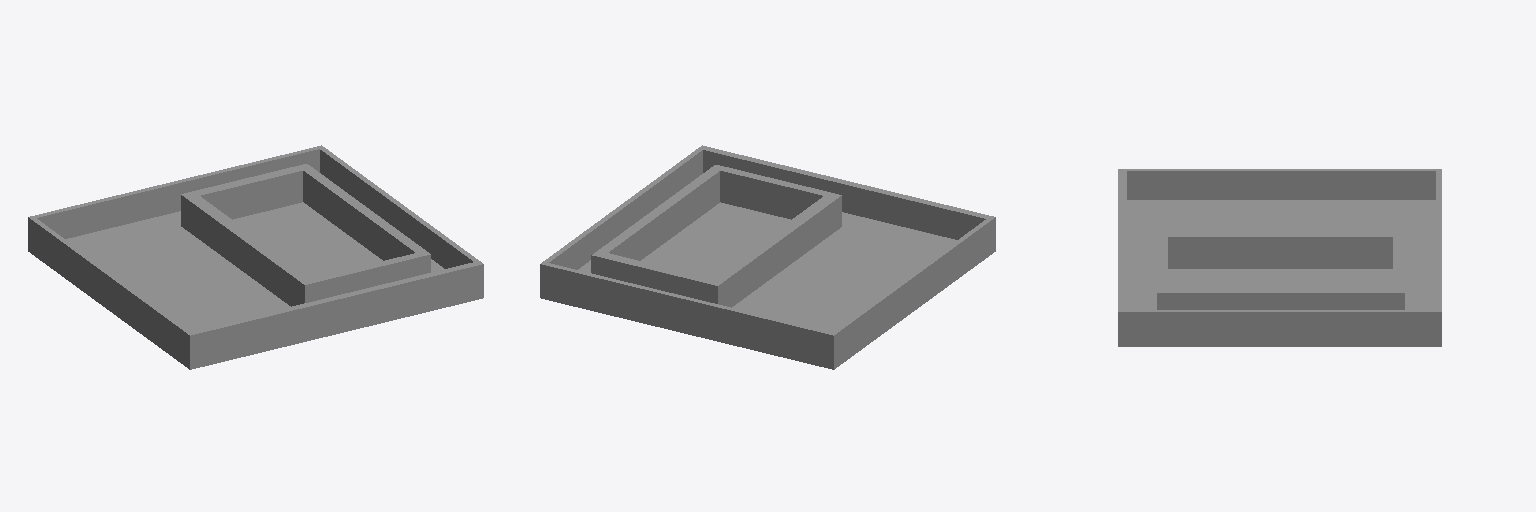
File: cube_farm.obj
3 renders of one model, left to right at view 1: azimuth 30°, elevation 25°; view 2: azimuth 150°, elevation 25°; view 3: azimuth 270°, elevation 25°, orthographic.
Parts seen in each view (by area): view 1: Cube; view 2: Cube; view 3: Cube.
Part boxes in pixels (x1,y1,x2,y2): Cube: (28, 145, 483, 369); Cube: (540, 145, 995, 369); Cube: (1118, 169, 1441, 346).
Bounding box in the file's own units: 44.61 × 5.48 × 42.62.